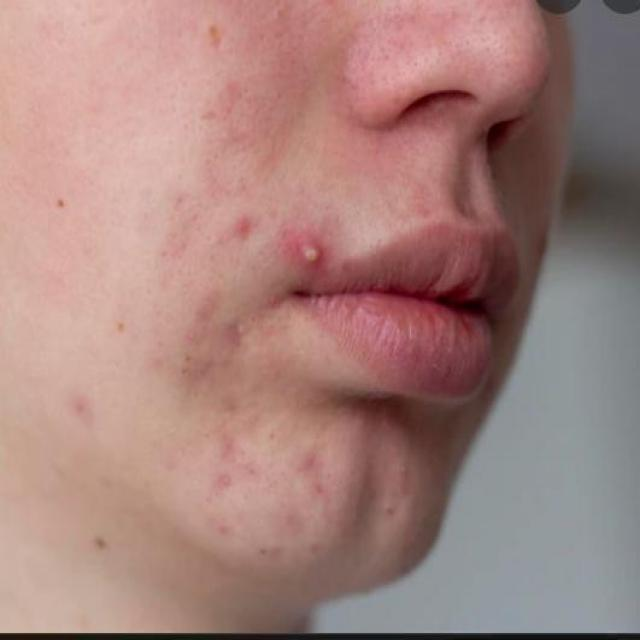9: (284, 222, 338, 280)
blackheads: (193, 414, 259, 504), (214, 292, 256, 372), (210, 202, 278, 244)
